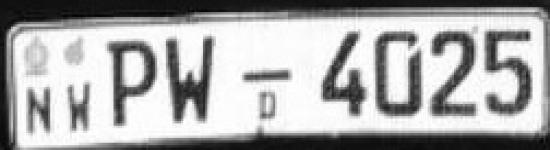-: (240, 68, 295, 89)
0: (372, 24, 424, 126)
2: (426, 24, 481, 123)
4: (316, 27, 372, 120)
5: (483, 22, 539, 122)
N: (22, 82, 58, 138)
P: (102, 34, 163, 130)
W: (161, 32, 227, 128), (63, 77, 99, 134)
